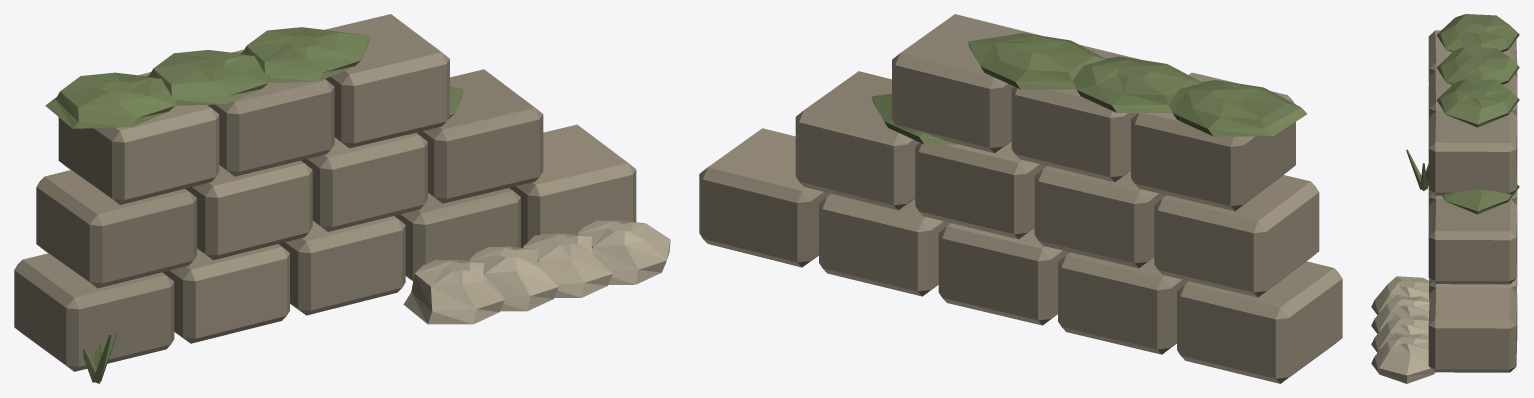
File: mossy-wall.glb
3 renders of one model, left to right at view 1: azimuth 30°, elevation 25°; view 2: azimuth 150°, elevation 25°; view 3: azimuth 270°, elevation 25°, orthographic. The views are drawn at different scales.
Parts seen in each view (by area): view 1: mossy-wall; view 2: mossy-wall; view 3: mossy-wall.
Part boxes in pixels (box(x1,y1,x2,y2)): mossy-wall: box(14, 14, 670, 383); mossy-wall: box(699, 14, 1342, 383); mossy-wall: box(1371, 14, 1519, 383).
Size of the model in its own units: 3.13 by 1.3 by 0.9654.
